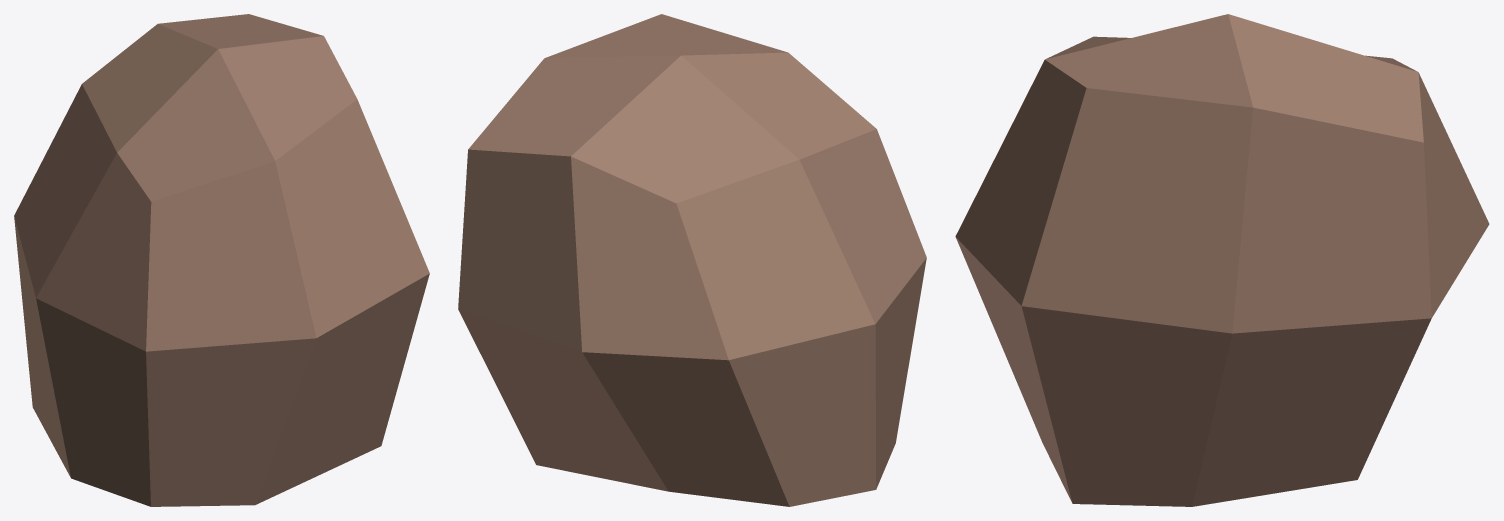
File: a_z1_rock_l.fbx
3 renders of one model, left to right at view 1: azimuth 30°, elevation 25°; view 2: azimuth 150°, elevation 25°; view 3: azimuth 270°, elevation 25°, orthographic. The views are drawn at different scales.
Parts seen in each view (by area): view 1: a_z1_rock_l; view 2: a_z1_rock_l; view 3: a_z1_rock_l.
Boxes of the visible parts, x1,y1,x2,y2 form: a_z1_rock_l: (14,14,429,506); a_z1_rock_l: (458,14,926,506); a_z1_rock_l: (955,14,1489,506).
Bounding box in the file's own units: 257 × 282 × 295.
